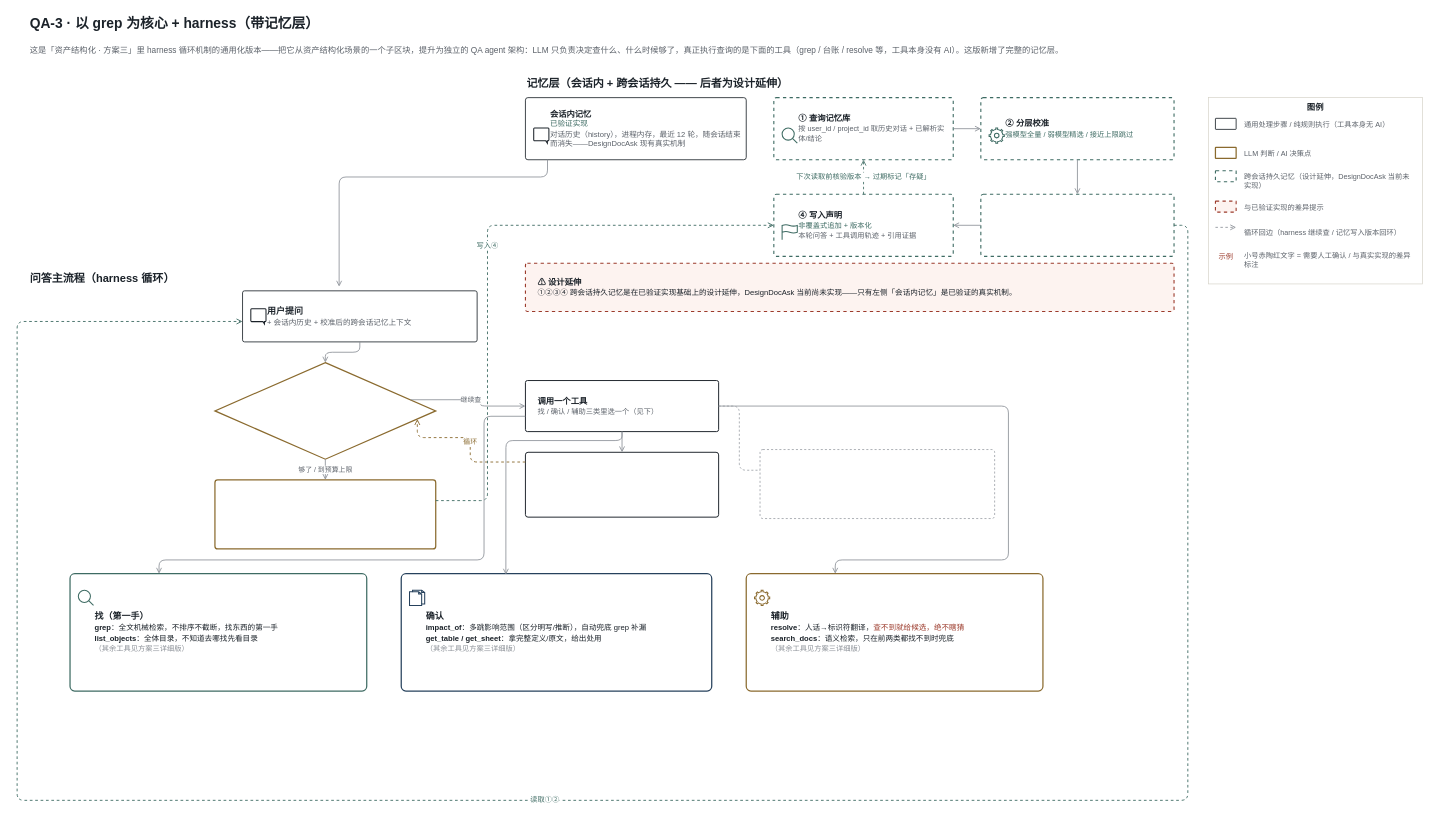
This 1435x818 diagram has some shape labels left out. Each missing label, with the centre of its shape:
"LLM 判断 材料够了吗？还要不要继续查？" goes at point 325,410.
"③ 任务执行 指向下方主流程（harness 循环）" goes at point 1077,225.
"拿到结果 纯规则返回的 JSON——这一步没有 LLM 参与" goes at point 622,484.
"生成最终回答 附出典；标注哪些明写、哪些是推断、哪些没查到写「未确认」" goes at point 325,514.
"预算保护 最多循环 12 轮／调用 24 次工具。快到上限时提示 LLM「这是最后机会，只能用已有材料回答，查不到的地方必须写未确认」。" goes at point 877,484.
